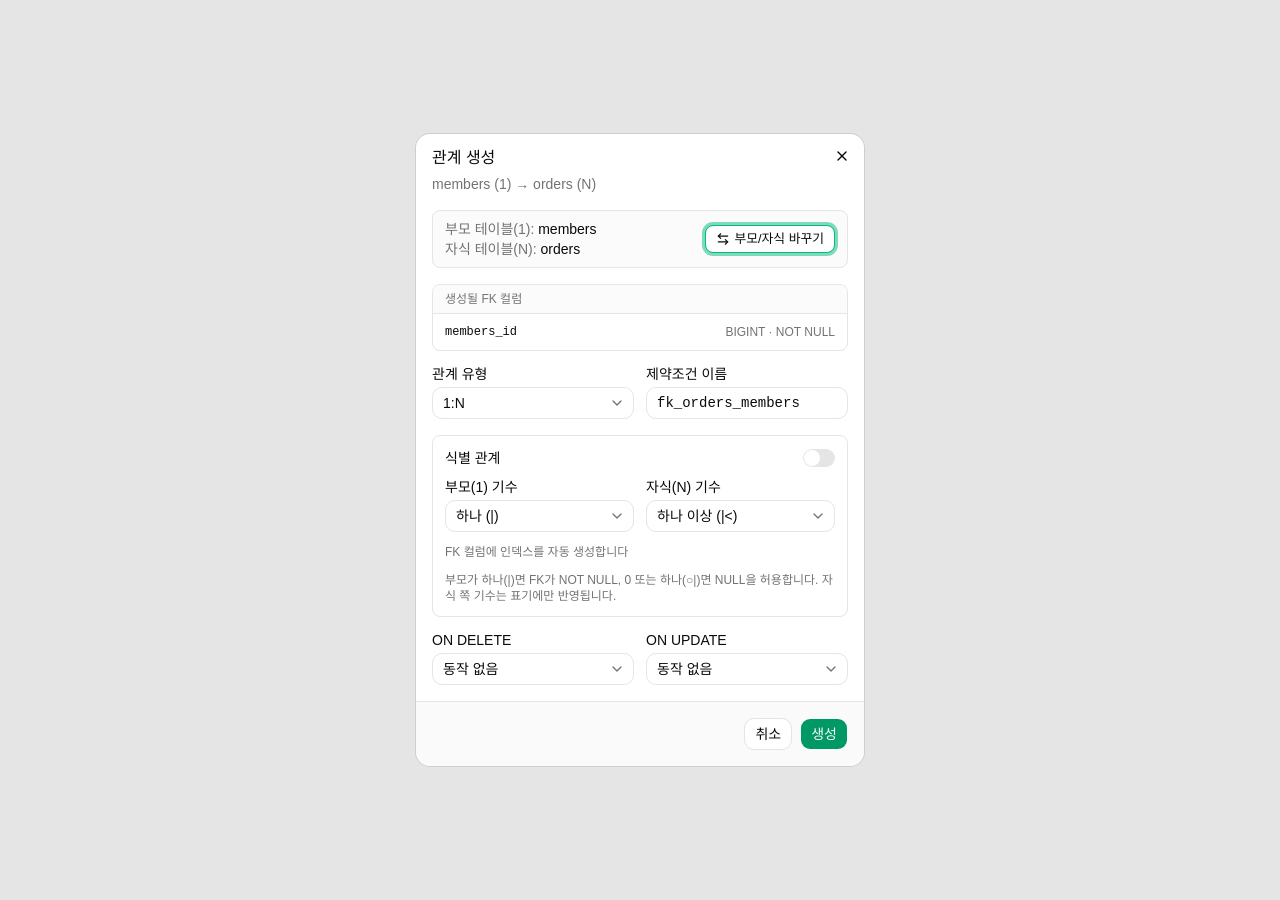
Scenario: RelationshipDialog — 생성 › 부모 기수를 0 또는 하나(○|)로 바꾸면 FK 미리보기에서 NOT NULL이 빠진다
This screenshot has width=1280, height=900.
Expected: the text "BIGINT · NOT NULL" is shown, x1=725 y1=324 x2=835 y2=340
Click the dropdown named "부모(1) 기수" at (540, 516), box x1=445 y1=500 x2=634 y2=532
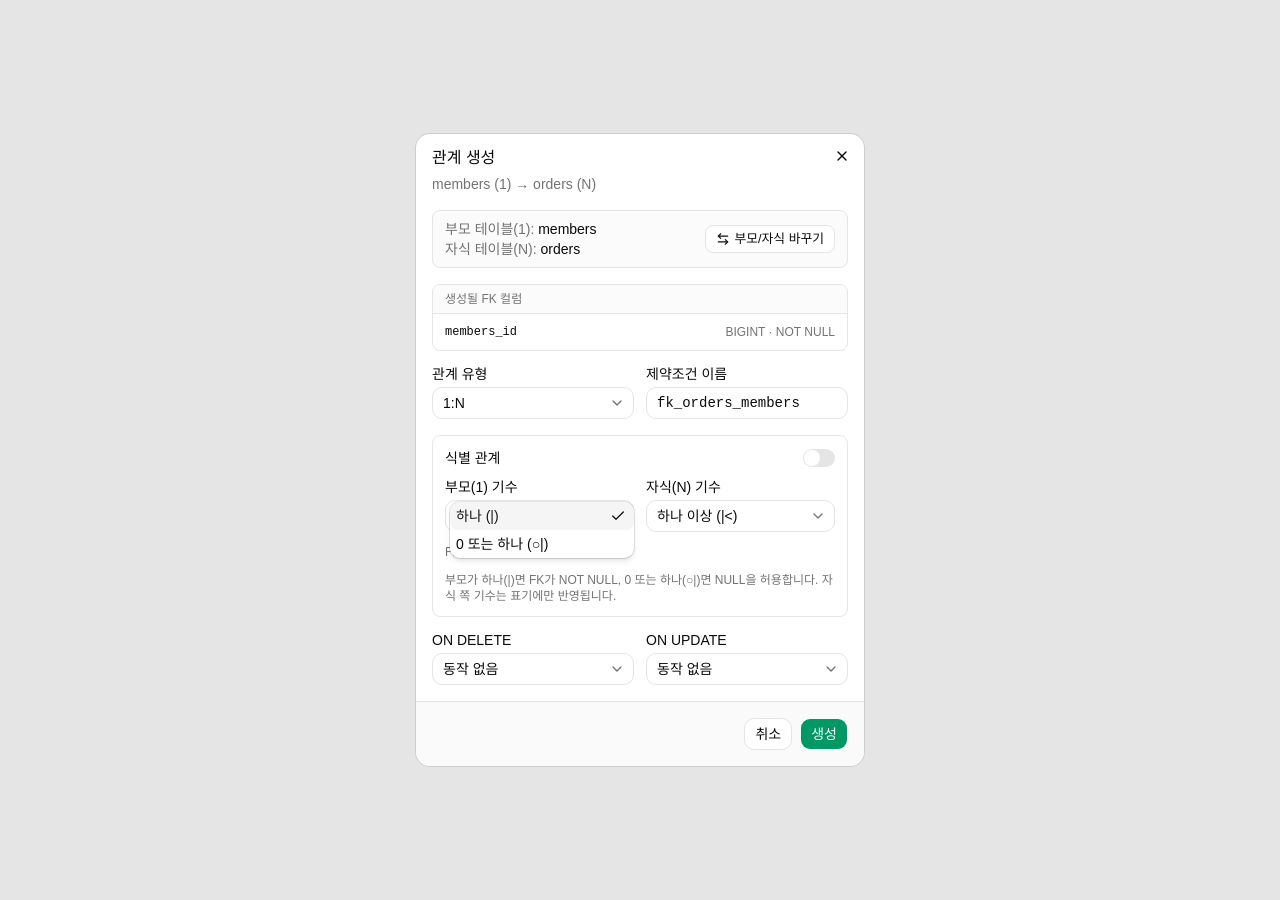
Click the option "0 또는 하나 (○|)" at (502, 544), box x1=456 y1=536 x2=548 y2=552
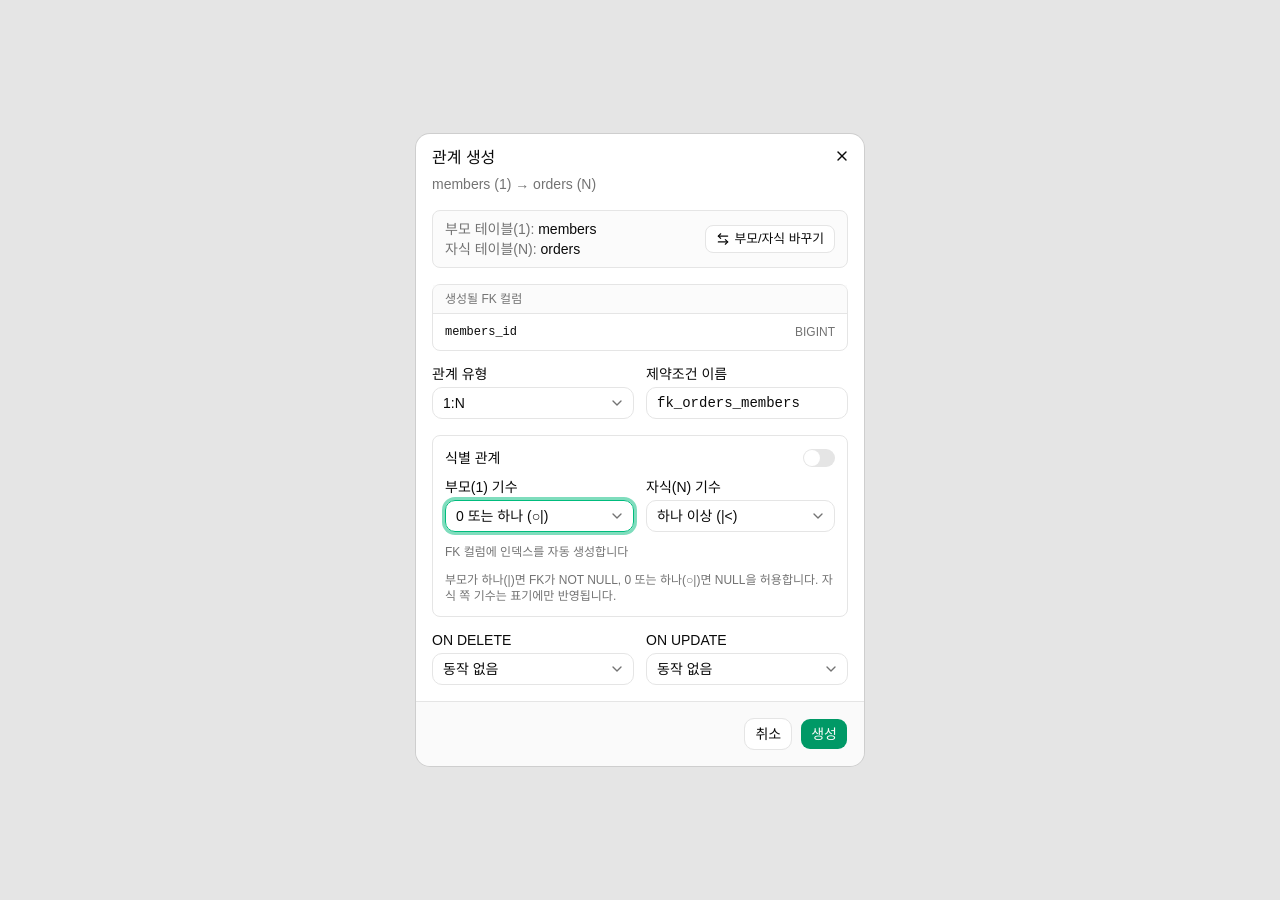
Now the text "BIGINT · NOT NULL" is gone
